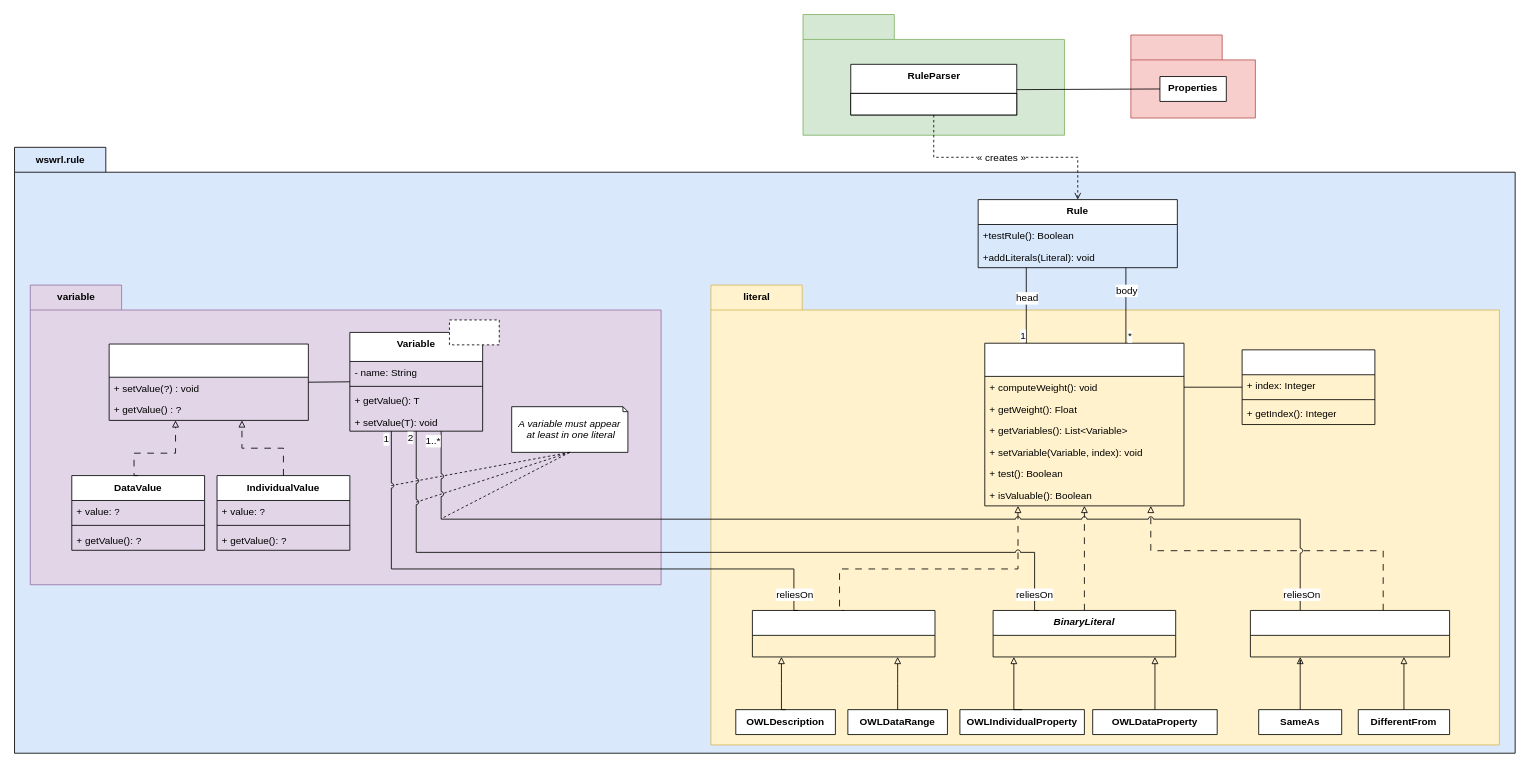
The diagram is 1530 pixels wide and 768 high, and some of its shapes have lost their labels. Here are the shapes that lost their labels. From the top down, the box of each, then its label:
(802, 14, 1064, 135): wswrl.parser
(1130, 34, 1255, 118): java.util
(850, 93, 1017, 115): + parseStringRule(String) : Rule
(449, 319, 499, 345): T: Value
(108, 343, 308, 420): <<Interface>> Value
(1241, 349, 1375, 425): Rank
(984, 342, 1184, 506): <<Interface>> Literal
(752, 610, 935, 657): UnaryLiteral
(1250, 610, 1450, 657): BuiltInLiteral
